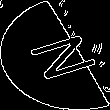N_NE: (12, 27, 98, 83)
